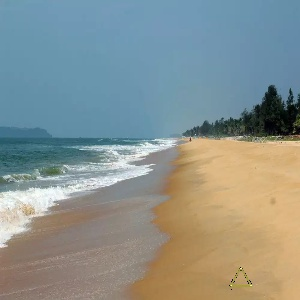triangle: (227, 264, 254, 290)
